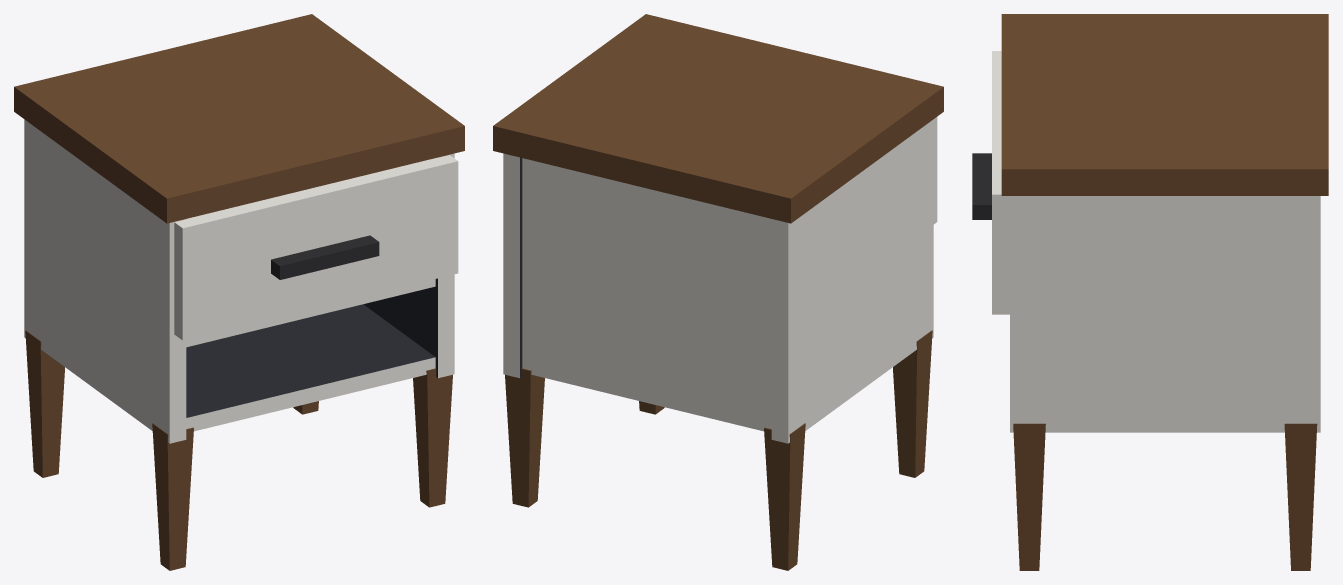
Rendered from FN_Cabinet_Bedside.glb.
The picture shows the model from 3 angles, left to right: view 1: azimuth 30°, elevation 25°; view 2: azimuth 150°, elevation 25°; view 3: azimuth 270°, elevation 25°; orthographic projection. The views are drawn at different scales.
Parts seen in each view (by area): view 1: FN_Cabinet_Bedside; view 2: FN_Cabinet_Bedside; view 3: FN_Cabinet_Bedside.
Part boxes in pixels (x1,y1,x2,y2): FN_Cabinet_Bedside: [14, 14, 464, 570]; FN_Cabinet_Bedside: [493, 14, 943, 570]; FN_Cabinet_Bedside: [972, 14, 1328, 570].
Size of the model in its own units: 0.45 by 0.55 by 0.436.
Materials: 1 (1 with a texture image).
